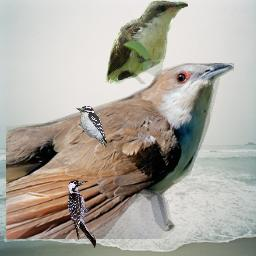Cuckoo: (6, 63, 234, 239), (105, 0, 188, 84)
Woodpecker: (67, 180, 96, 248), (76, 106, 107, 149)
